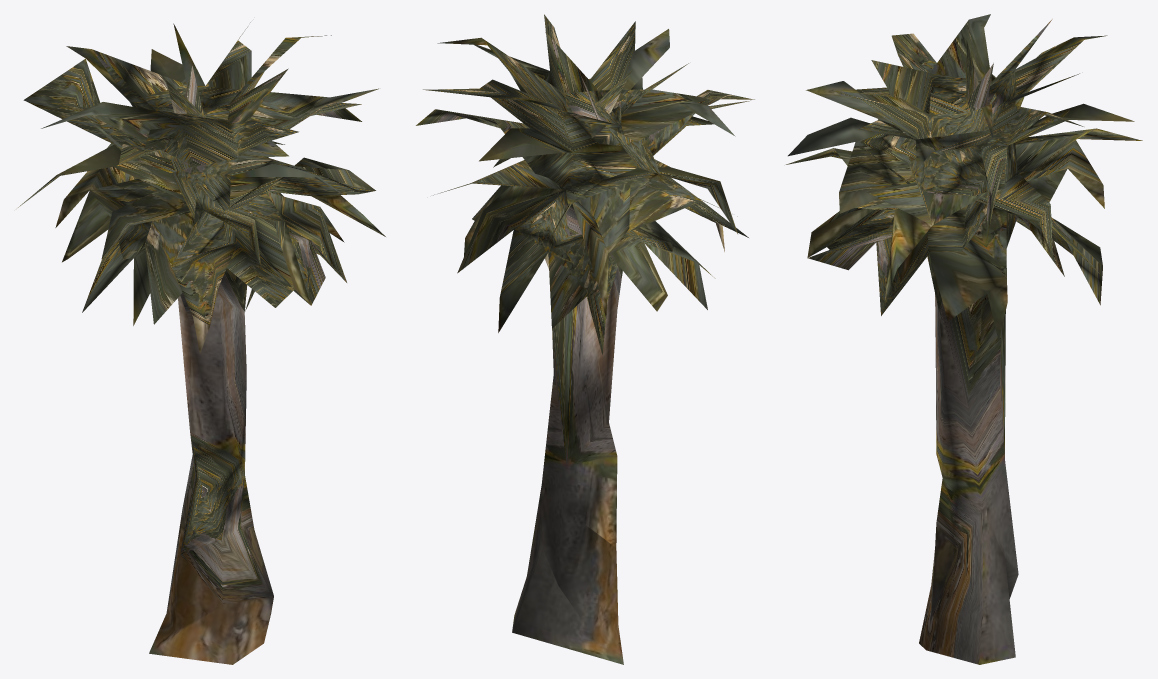
The model's file is ph_quiver_tree_02_lod.glb.
The picture shows the model from 3 angles, left to right: view 1: azimuth 30°, elevation 25°; view 2: azimuth 150°, elevation 25°; view 3: azimuth 270°, elevation 25°; orthographic projection.
Visible parts, largest first — view 1: quiver_tree_02; view 2: quiver_tree_02; view 3: quiver_tree_02.
Boxes of the visible parts, bbox=[...] form: quiver_tree_02: bbox=[18, 22, 385, 664]; quiver_tree_02: bbox=[416, 14, 754, 664]; quiver_tree_02: bbox=[786, 14, 1142, 664].
Size of the model in its own units: 0.8554 by 1.44 by 0.7892.
Materials: 1 (1 with a texture image).
